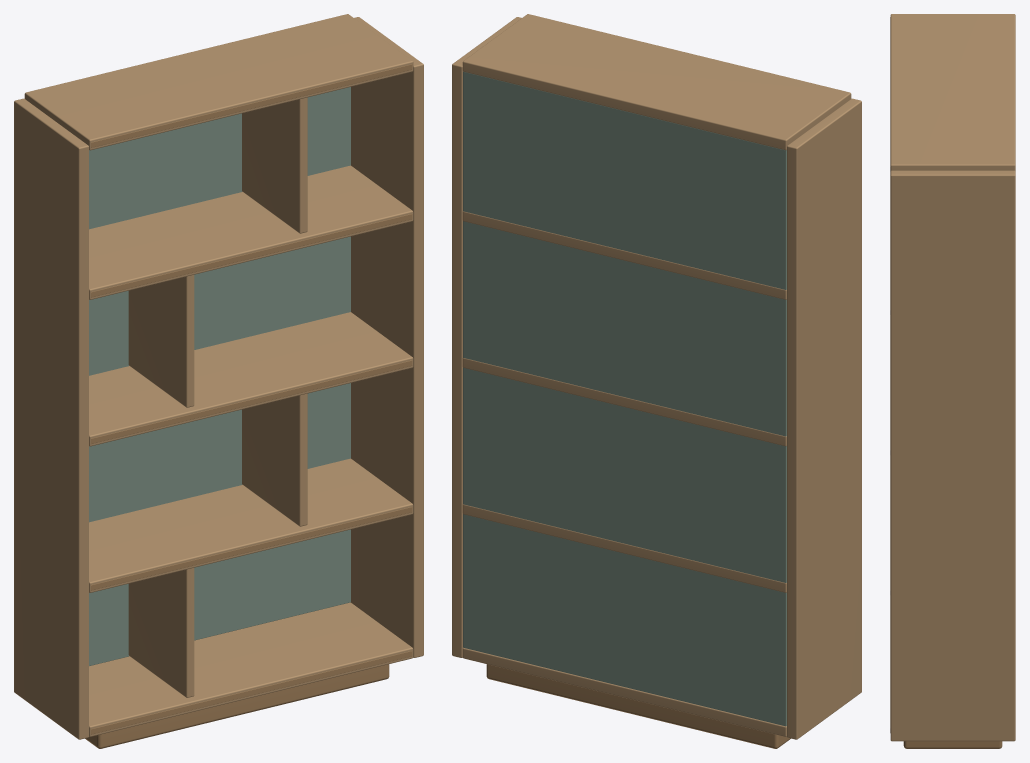
Rendered from bookshelf.glb.
3 renders of one model, left to right at view 1: azimuth 30°, elevation 25°; view 2: azimuth 150°, elevation 25°; view 3: azimuth 270°, elevation 25°, orthographic. The views are drawn at different scales.
Visible parts, largest first — view 1: Recessed sage back, Full height side, Full height side.001, Solid oak shelf.004, Solid oak shelf, Solid oak shelf.001, Solid oak shelf.003, Solid oak shelf.002, Offset vertical divider.003, Offset vertical divider.002, Offset vertical divider.001, Offset vertical divider (+6 smaller); view 2: Recessed sage back, Full height side, Solid oak shelf.004, Full height side.001, Recessed oak plinth, Solid oak shelf, Solid oak shelf.002, Solid oak shelf.003, Solid oak shelf.001; view 3: Full height side.001, Solid oak shelf.004, Recessed oak plinth.
Boxes of the visible parts, x1,y1,x2,y2 form: Recessed sage back: [89, 87, 350, 665]; Full height side: [14, 98, 88, 739]; Full height side.001: [351, 17, 423, 657]; Solid oak shelf.004: [24, 14, 413, 150]; Solid oak shelf: [89, 602, 413, 736]; Solid oak shelf.001: [89, 458, 413, 592]; Solid oak shelf.003: [89, 165, 413, 299]; Solid oak shelf.002: [89, 312, 413, 446]; Offset vertical divider.003: [242, 97, 307, 233]; Offset vertical divider.002: [128, 275, 194, 407]; Offset vertical divider.001: [242, 393, 307, 526]; Offset vertical divider: [128, 568, 194, 697]; Recessed sage back: [463, 71, 786, 726]; Full height side: [787, 98, 861, 739]; Solid oak shelf.004: [462, 14, 851, 150]; Full height side.001: [452, 17, 521, 657]; Recessed oak plinth: [486, 664, 790, 748]; Solid oak shelf: [462, 648, 786, 736]; Solid oak shelf.002: [462, 358, 786, 446]; Solid oak shelf.003: [462, 211, 786, 299]; Solid oak shelf.001: [462, 504, 786, 592]; Full height side.001: [890, 170, 1015, 741]; Solid oak shelf.004: [890, 14, 1015, 171]; Recessed oak plinth: [903, 741, 1002, 748].
Bounding box in the file's own units: 1.16 × 1.99 × 0.3805.
